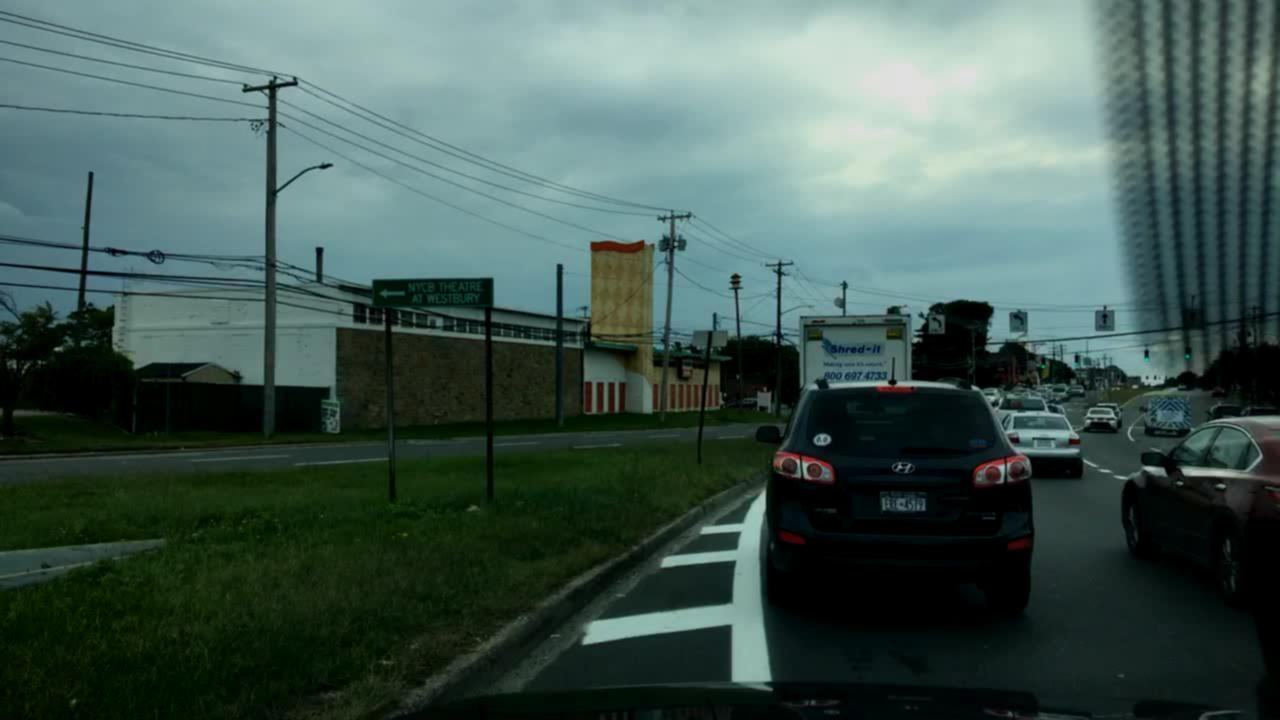Hyundai: (883, 449, 924, 481)
